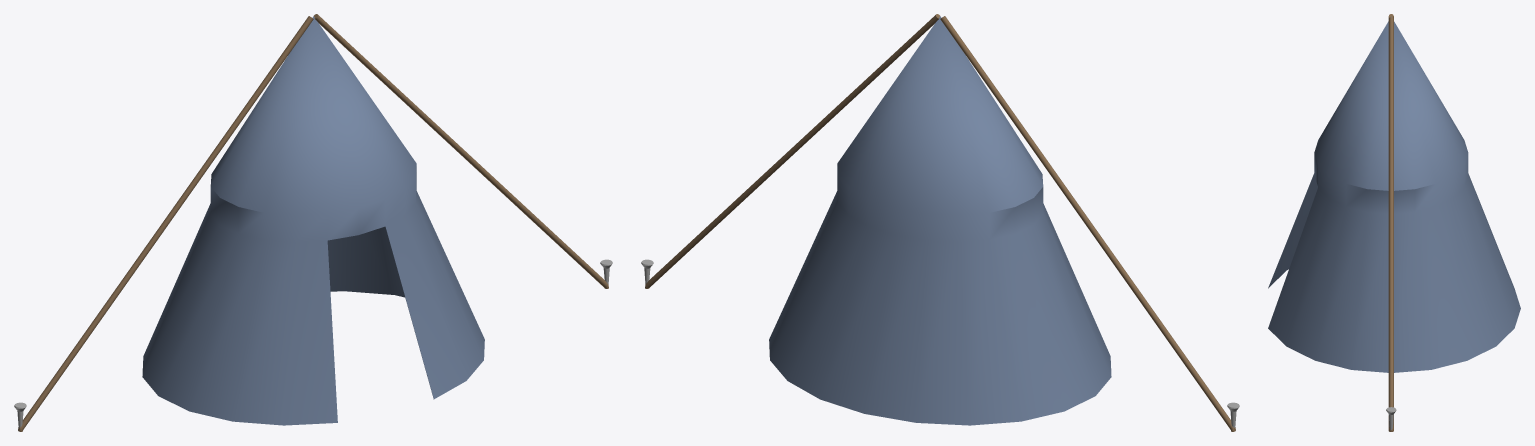
Rendered from Triangle_Tent_Blue_FBX_EXport.fbx.
3 renders of one model, left to right at view 1: azimuth 30°, elevation 25°; view 2: azimuth 150°, elevation 25°; view 3: azimuth 270°, elevation 25°, orthographic. The views are drawn at different scales.
Visible parts, largest first — view 1: Tent_1_Export:Tent_3; view 2: Tent_1_Export:Tent_3; view 3: Tent_1_Export:Tent_3.
Boxes of the visible parts, bbox=[...] form: Tent_1_Export:Tent_3: bbox=[14, 14, 612, 431]; Tent_1_Export:Tent_3: bbox=[641, 14, 1239, 431]; Tent_1_Export:Tent_3: bbox=[1268, 14, 1520, 431].
Bounding box in the file's own units: 13.41 × 7.39 × 5.77.
